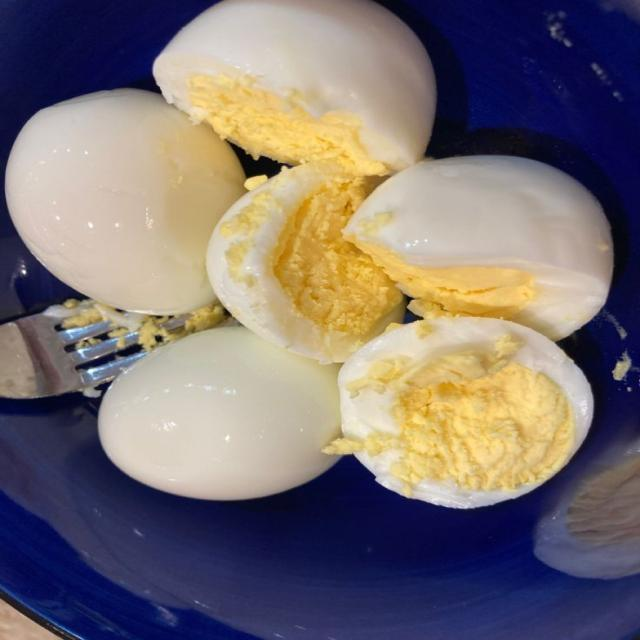egg boiled: (6, 89, 245, 314), (326, 318, 593, 508), (154, 0, 435, 175), (346, 156, 613, 339), (99, 327, 339, 499), (207, 163, 404, 362), (534, 442, 639, 579)
